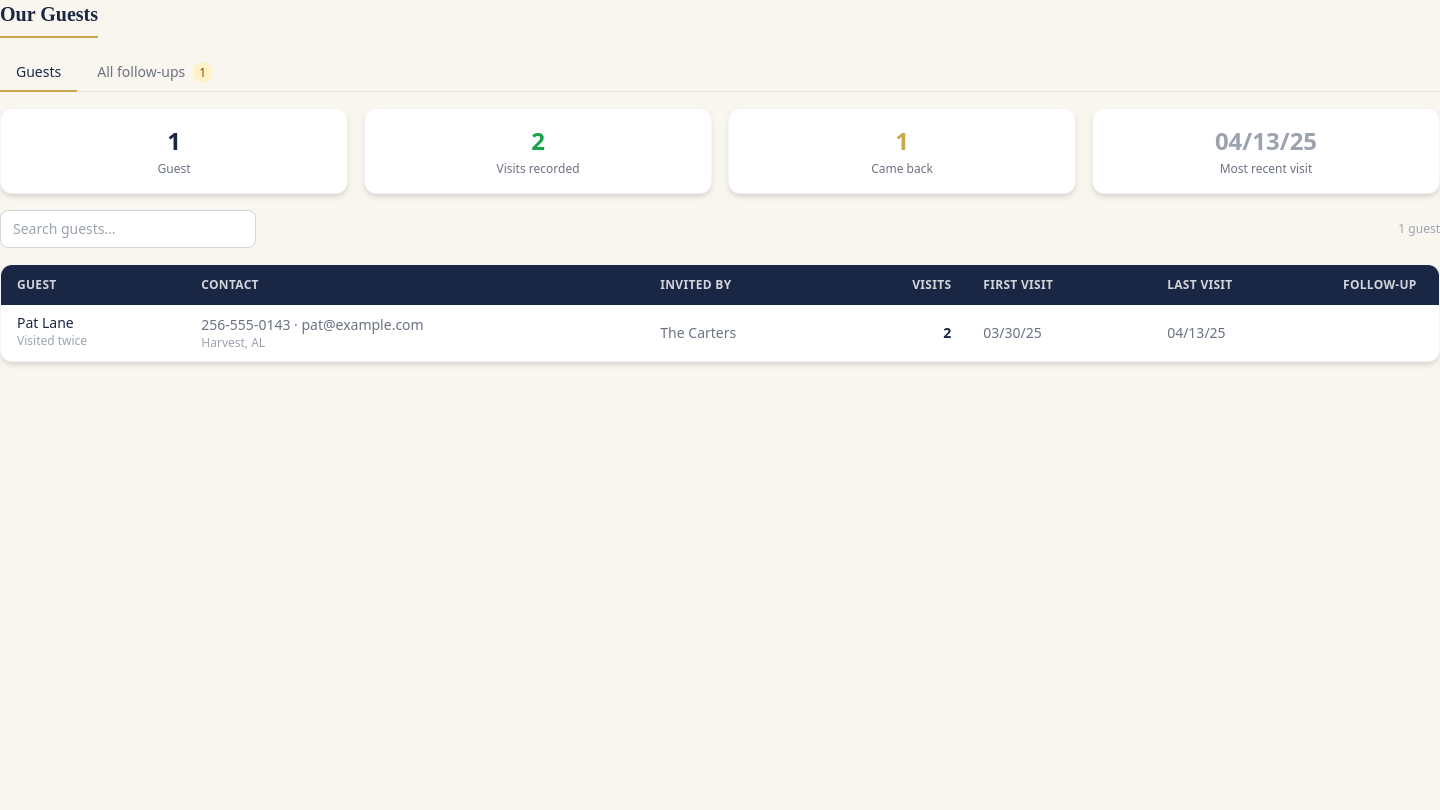
Test: VisitorTracker › the tracker's own comments are shown, and kept apart from ours
This screenshot has width=1440, height=810.
Click the button "Pat Lane": (45, 323) [17,313,74,333]
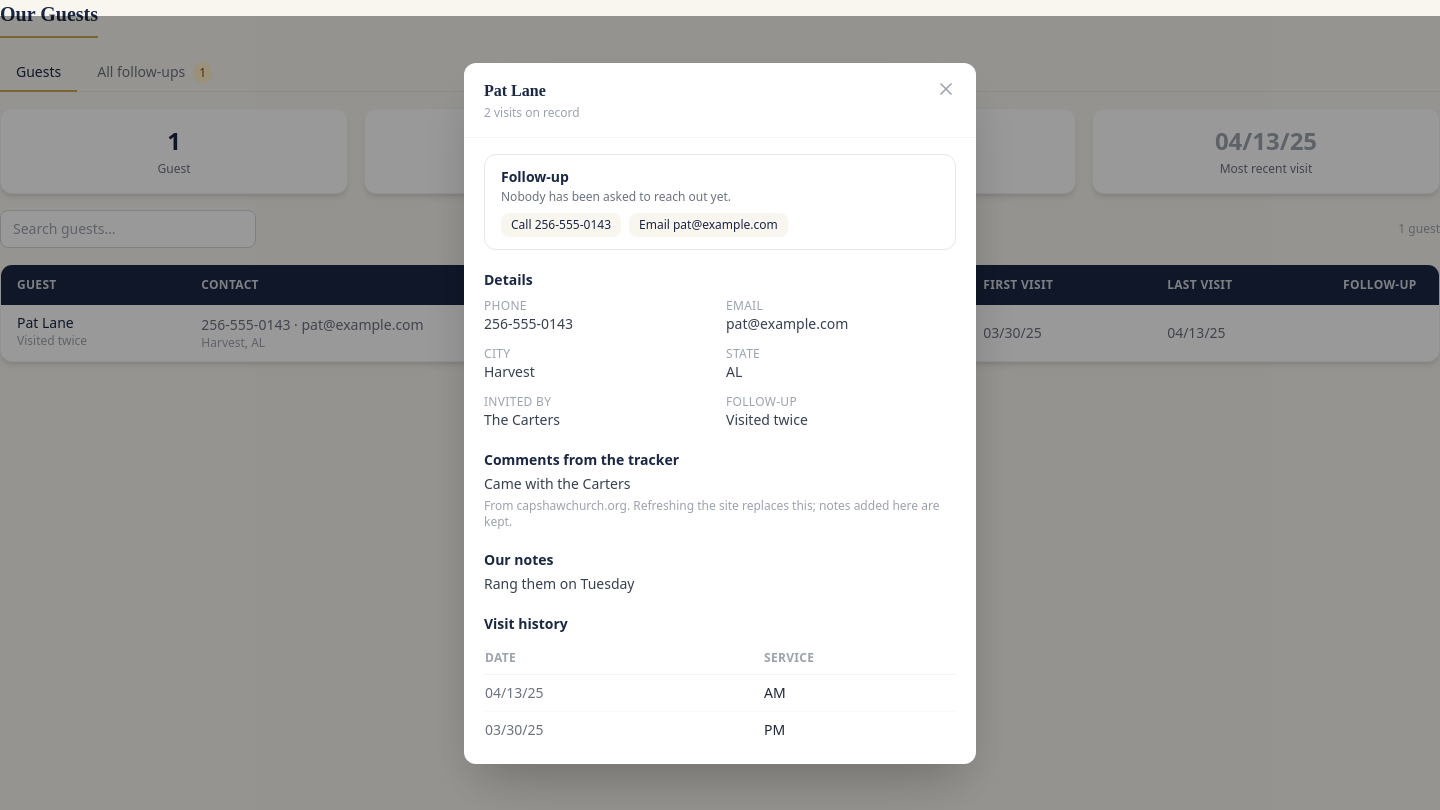
Expected: the heading "Comments from the tracker" is shown, [484,450,679,468]
Expected: the text "Came with the Carters" is shown, [484,474,630,492]
Expected: the heading "Our notes" is shown, [484,550,554,568]
